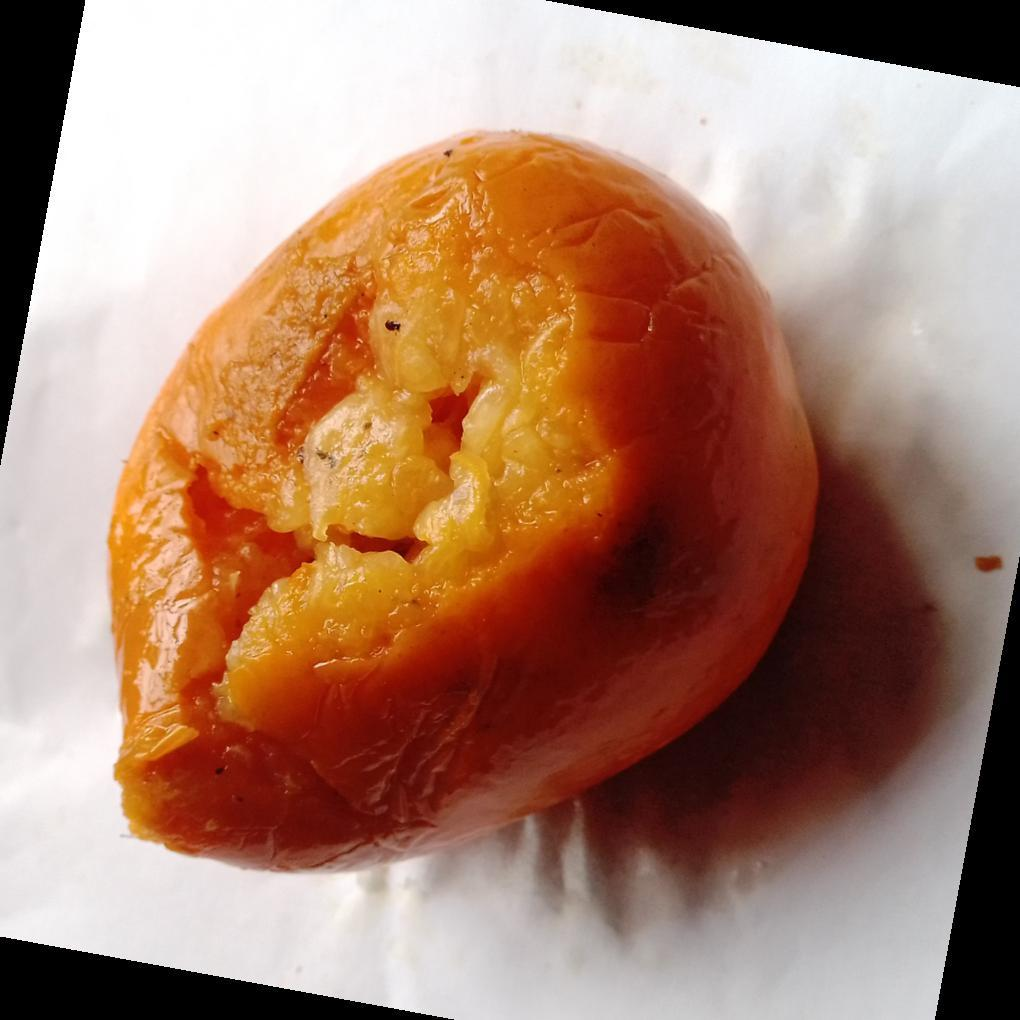FreshOrange: (104, 130, 823, 880)
